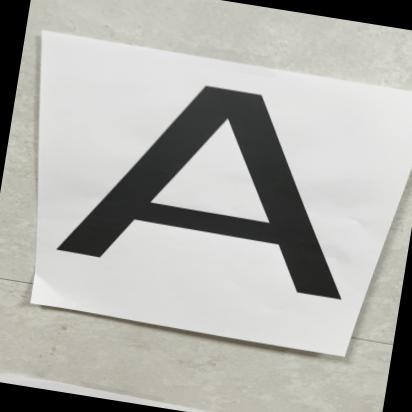seat: (33, 53, 387, 326)
